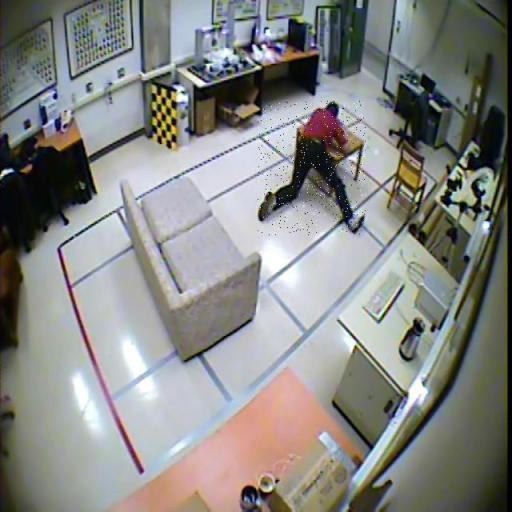Fall: (258, 102, 366, 236)
